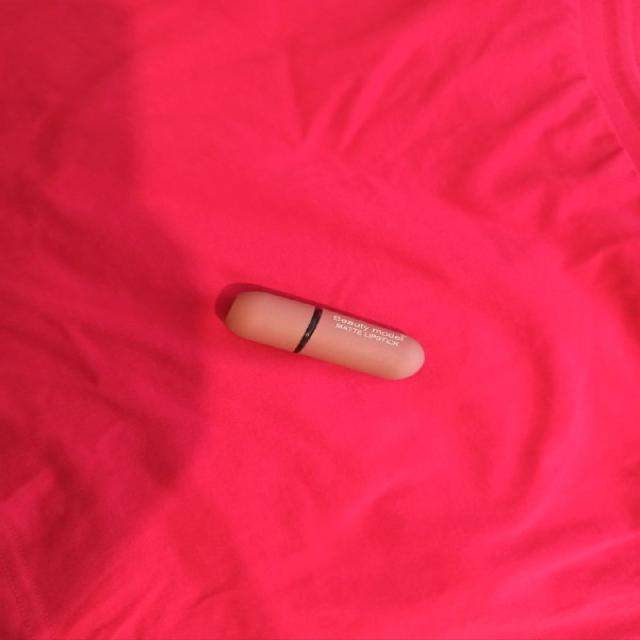lipstick: (222, 289, 425, 380)
